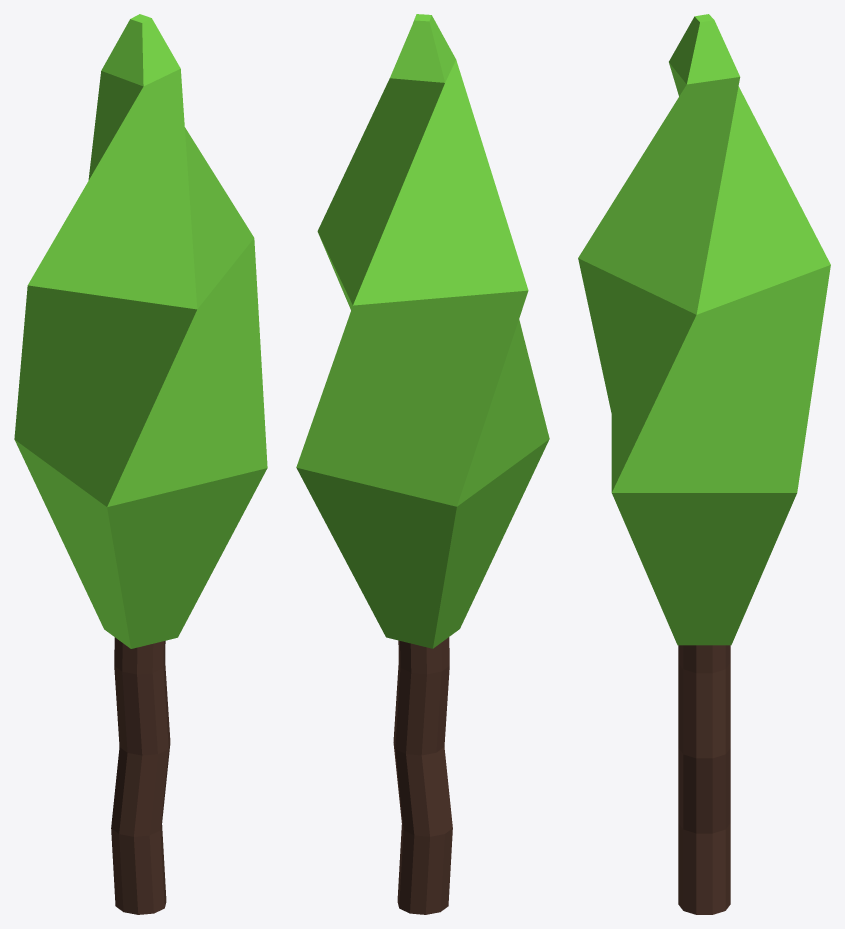
File: Long Tree.fbx
3 renders of one model, left to right at view 1: azimuth 30°, elevation 25°; view 2: azimuth 150°, elevation 25°; view 3: azimuth 270°, elevation 25°, orthographic.
Visible parts, largest first — view 1: Long Tree; view 2: Long Tree; view 3: Long Tree.
Boxes of the visible parts, x1,y1,x2,y2 form: Long Tree: (14, 14, 267, 914); Long Tree: (296, 14, 549, 914); Long Tree: (578, 14, 830, 914).
Bounding box in the file's own units: 216 × 834 × 216.
